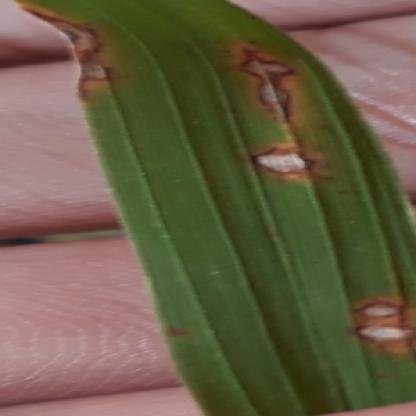Rice blast: (16, 1, 123, 105), (229, 46, 319, 129), (246, 146, 327, 180), (338, 292, 410, 324), (353, 324, 416, 349)
